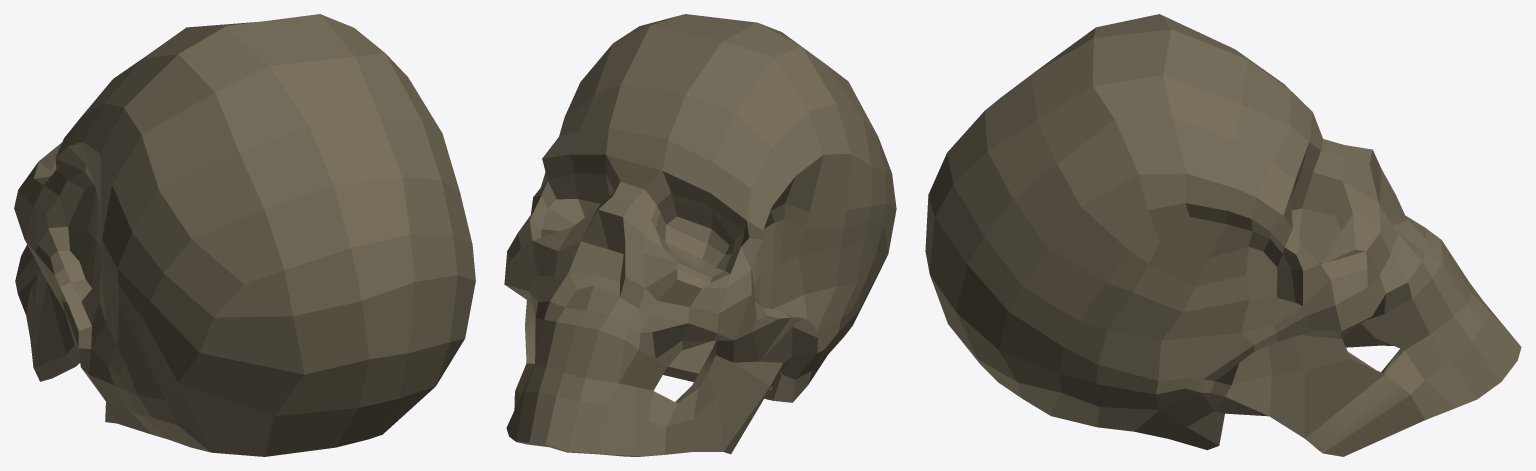
File: SM_Skull.FBX
The picture shows the model from 3 angles, left to right: view 1: azimuth 30°, elevation 25°; view 2: azimuth 150°, elevation 25°; view 3: azimuth 270°, elevation 25°; orthographic projection. The views are drawn at different scales.
Visible parts, largest first — view 1: TopoSurface001; view 2: TopoSurface001; view 3: TopoSurface001.
Boxes of the visible parts, x1,y1,x2,y2 form: TopoSurface001: (14, 14, 475, 456); TopoSurface001: (504, 14, 896, 456); TopoSurface001: (925, 14, 1521, 456).
Bounding box in the file's own units: 16.9 × 19.57 × 28.96.
